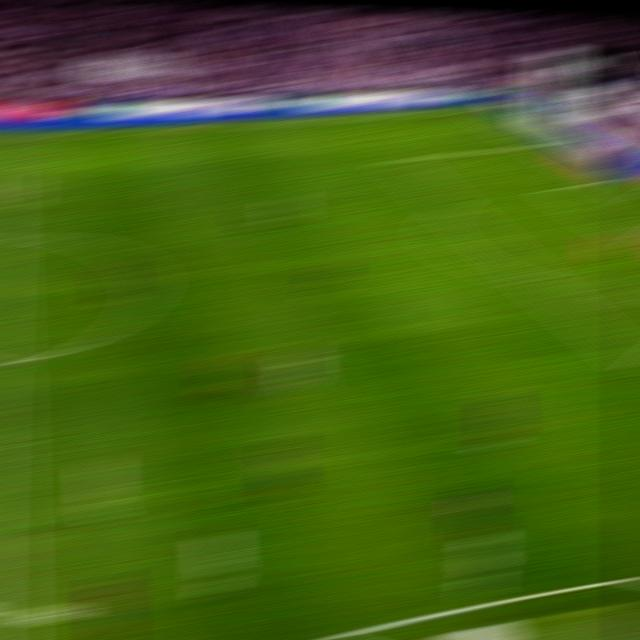bigarea_top_inner: (383, 153, 410, 164)
bigarea_top_outter: (530, 138, 558, 150)
bottom_arc_area_intersection: (520, 270, 550, 287)
corner: (469, 104, 497, 112)
halfcircle_bottom: (0, 347, 23, 375)
halfcircle_top: (0, 226, 18, 249)
midline_top_intersection: (0, 131, 12, 145)
smallarea_top_inner: (543, 183, 569, 192)
top_arc_area_intersection: (436, 199, 464, 212)
